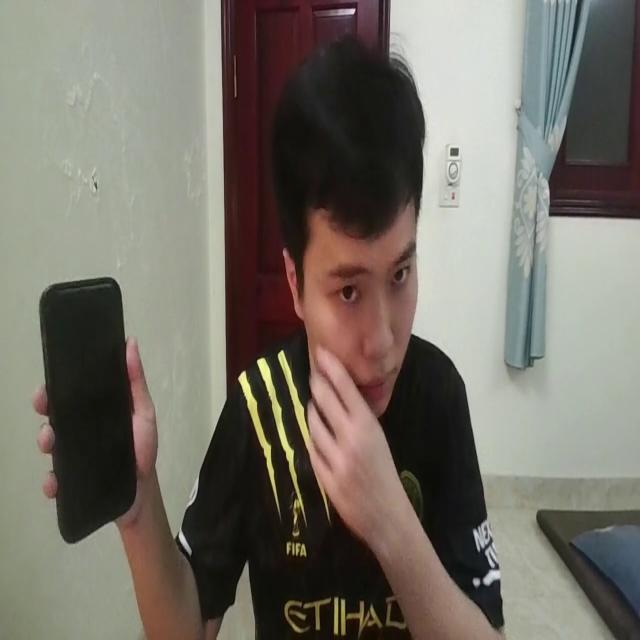phone: (38, 276, 139, 547)
student: (41, 19, 505, 640)
